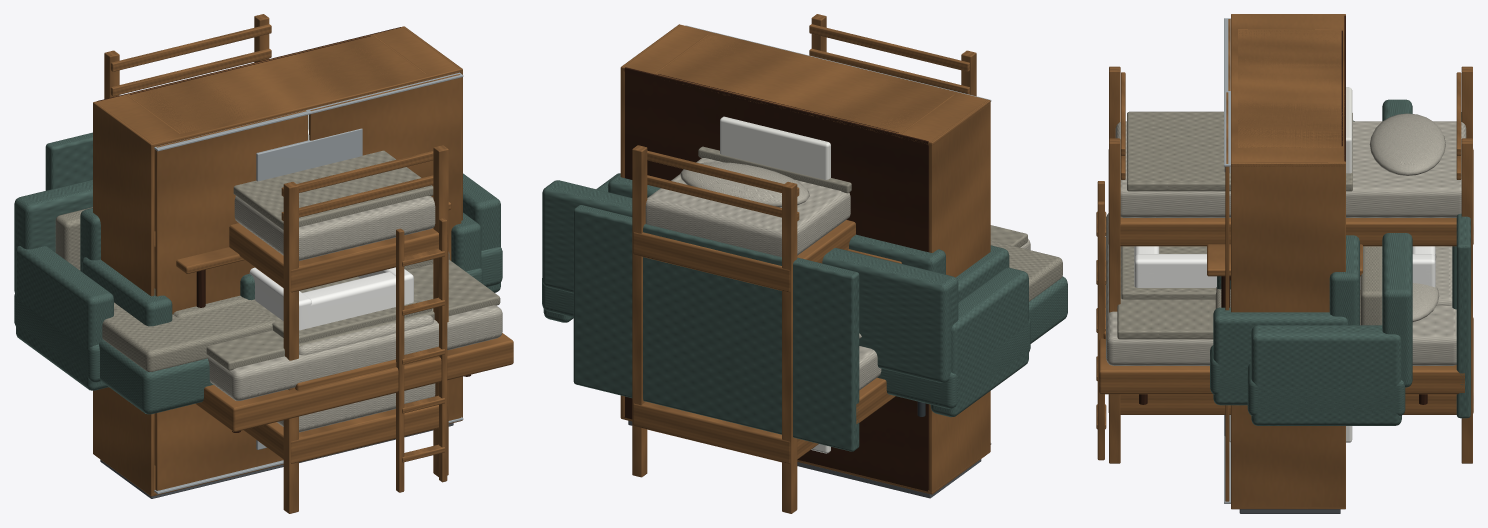
The model's file is furniture.glb.
3 renders of one model, left to right at view 1: azimuth 30°, elevation 25°; view 2: azimuth 150°, elevation 25°; view 3: azimuth 270°, elevation 25°, orthographic.
Parts seen in each view (by area): view 1: Sliding door, Carcass horizontal.003, Side panel.002, Sliding door.001, Bed frame, Mattress, Soft arm.002, Chaise cushion, Carcass horizontal.001, Duvet.003, Mattress.003, Bed frame.003 (+33 smaller); view 2: Upholstered headboard, Back panel.001, Carcass horizontal.003, Back frame.001, Side panel.002, Mattress.003, Soft arm.002, Bed frame.003, Bed frame.002, Appliance body, Bedpost, Upholstered base.001 (+18 smaller); view 3: Side panel.003, Soft arm.003, Carcass horizontal.001, Carcass horizontal.003, Mattress.003, Duvet.003, Bed frame.003, Mattress, Bed frame, Soft arm.001, Back frame.001, Duvet (+22 smaller).
Boxes of the visible parts, left/top/right/bottom form: Sliding door: left=155, top=110, right=307, bottom=490; Carcass horizontal.003: left=93, top=27, right=462, bottom=147; Side panel.002: left=93, top=101, right=154, bottom=493; Sliding door.001: left=309, top=74, right=461, bottom=420; Bed frame: left=195, top=333, right=513, bottom=431; Mattress: left=208, top=305, right=502, bottom=400; Soft arm.002: left=16, top=246, right=113, bottom=390; Chaise cushion: left=102, top=301, right=275, bottom=371; Carcass horizontal.001: left=129, top=45, right=406, bottom=133; Duvet.003: left=233, top=150, right=433, bottom=230; Mattress.003: left=234, top=196, right=435, bottom=260; Bed frame.003: left=229, top=223, right=447, bottom=292; Upholstered headboard: left=573, top=205, right=859, bottom=451; Back panel.001: left=624, top=67, right=928, bottom=491; Carcass horizontal.003: left=621, top=25, right=990, bottom=145; Back frame.001: left=542, top=180, right=958, bottom=382; Side panel.002: left=929, top=99, right=990, bottom=491; Mattress.003: left=645, top=158, right=850, bottom=257; Soft arm.002: left=930, top=267, right=1028, bottom=417; Bed frame.003: left=633, top=220, right=855, bottom=292; Bed frame.002: left=633, top=401, right=818, bottom=463; Appliance body: left=720, top=116, right=830, bottom=453; Bedpost: left=782, top=182, right=797, bottom=513; Upholstered base.001: left=542, top=278, right=1030, bottom=408; Side panel.003: left=1231, top=162, right=1345, bottom=506; Soft arm.003: left=1251, top=325, right=1401, bottom=425; Carcass horizontal.001: left=1238, top=30, right=1342, bottom=147; Carcass horizontal.003: left=1231, top=15, right=1345, bottom=166; Mattress.003: left=1115, top=121, right=1466, bottom=217; Duvet.003: left=1127, top=111, right=1352, bottom=191; Bed frame.003: left=1108, top=149, right=1473, bottom=246; Mattress: left=1106, top=213, right=1456, bottom=365; Bed frame: left=1099, top=237, right=1464, bottom=394; Soft arm.001: left=1213, top=307, right=1348, bottom=405; Back frame.001: left=1382, top=99, right=1412, bottom=387; Duvet: left=1117, top=246, right=1215, bottom=339.
Size of the model in its own units: 2.65 by 2.2 by 2.13.
Materials: 12 (5 with a texture image).
